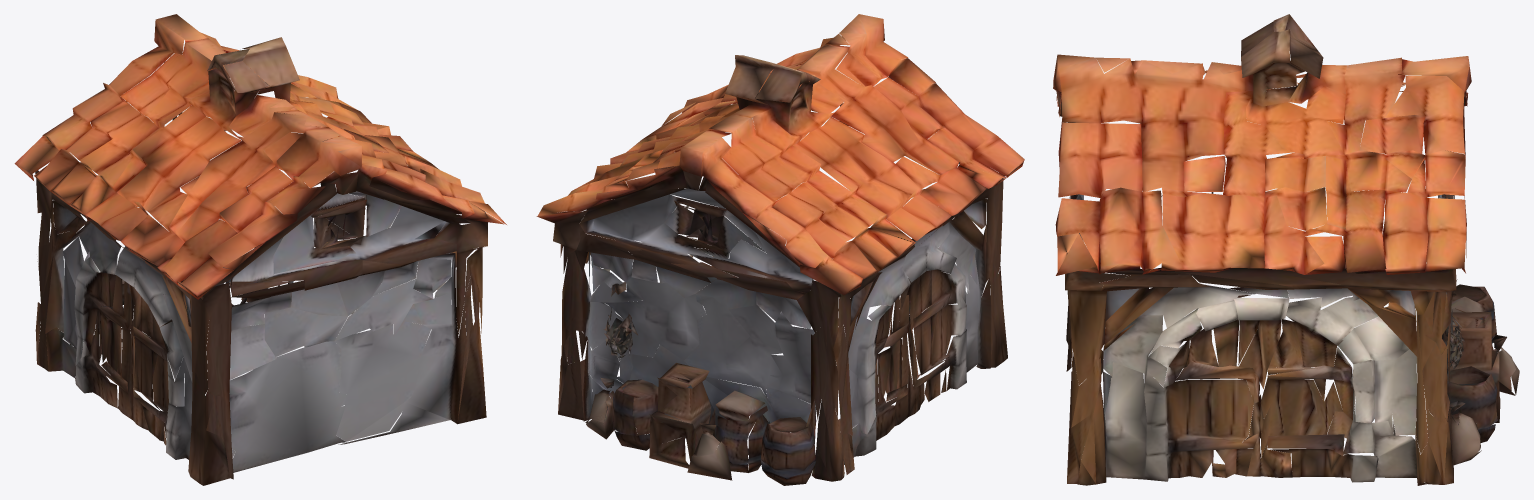
File: storehouse_lite.glb
3 views of the same model, side by side, from view 1: azimuth 30°, elevation 25°; view 2: azimuth 150°, elevation 25°; view 3: azimuth 270°, elevation 25° (orthographic). The views are drawn at different scales.
Visible parts, largest first — view 1: tripo_node_44165c0b-c698-444f-b3fe-088ca30295ef; view 2: tripo_node_44165c0b-c698-444f-b3fe-088ca30295ef; view 3: tripo_node_44165c0b-c698-444f-b3fe-088ca30295ef.
Boxes of the visible parts, bbox=[...] form: tripo_node_44165c0b-c698-444f-b3fe-088ca30295ef: bbox=[14, 14, 506, 485]; tripo_node_44165c0b-c698-444f-b3fe-088ca30295ef: bbox=[536, 14, 1024, 485]; tripo_node_44165c0b-c698-444f-b3fe-088ca30295ef: bbox=[1053, 14, 1519, 485].
Size of the model in its own units: 0.8663 by 0.8859 by 0.9836.
Materials: 1 (1 with a texture image).
